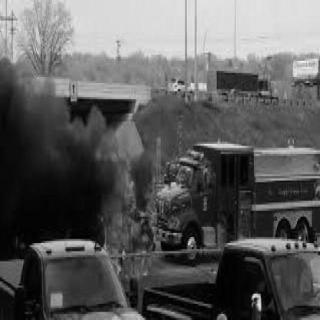Smoke: (2, 51, 100, 238)
